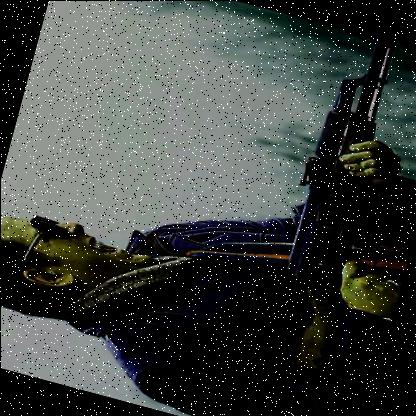rifle: (241, 26, 416, 396)
